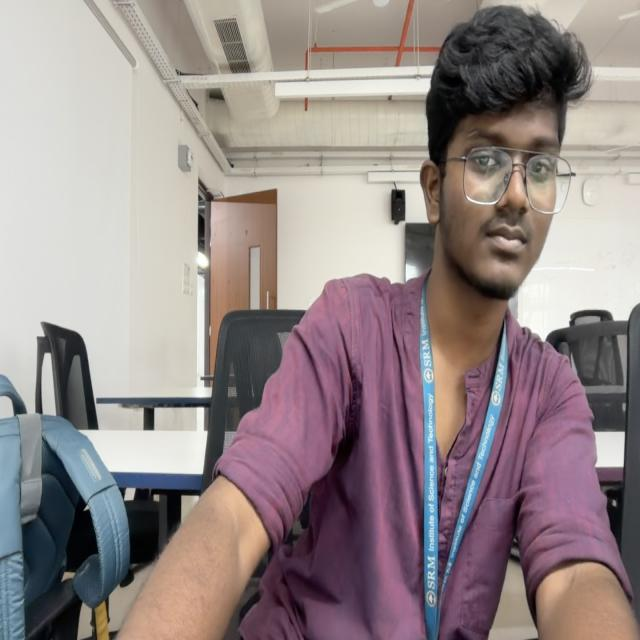ravindra: (420, 7, 592, 306)
